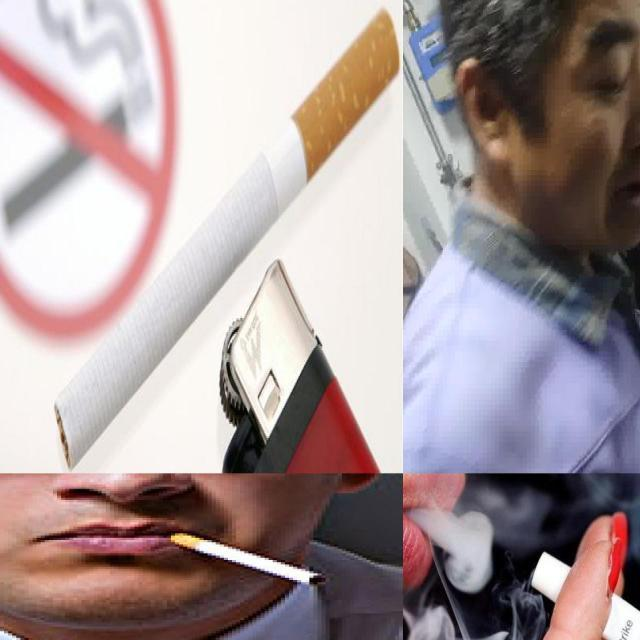smoking: (54, 10, 400, 472), (530, 550, 640, 640), (166, 531, 329, 587)
